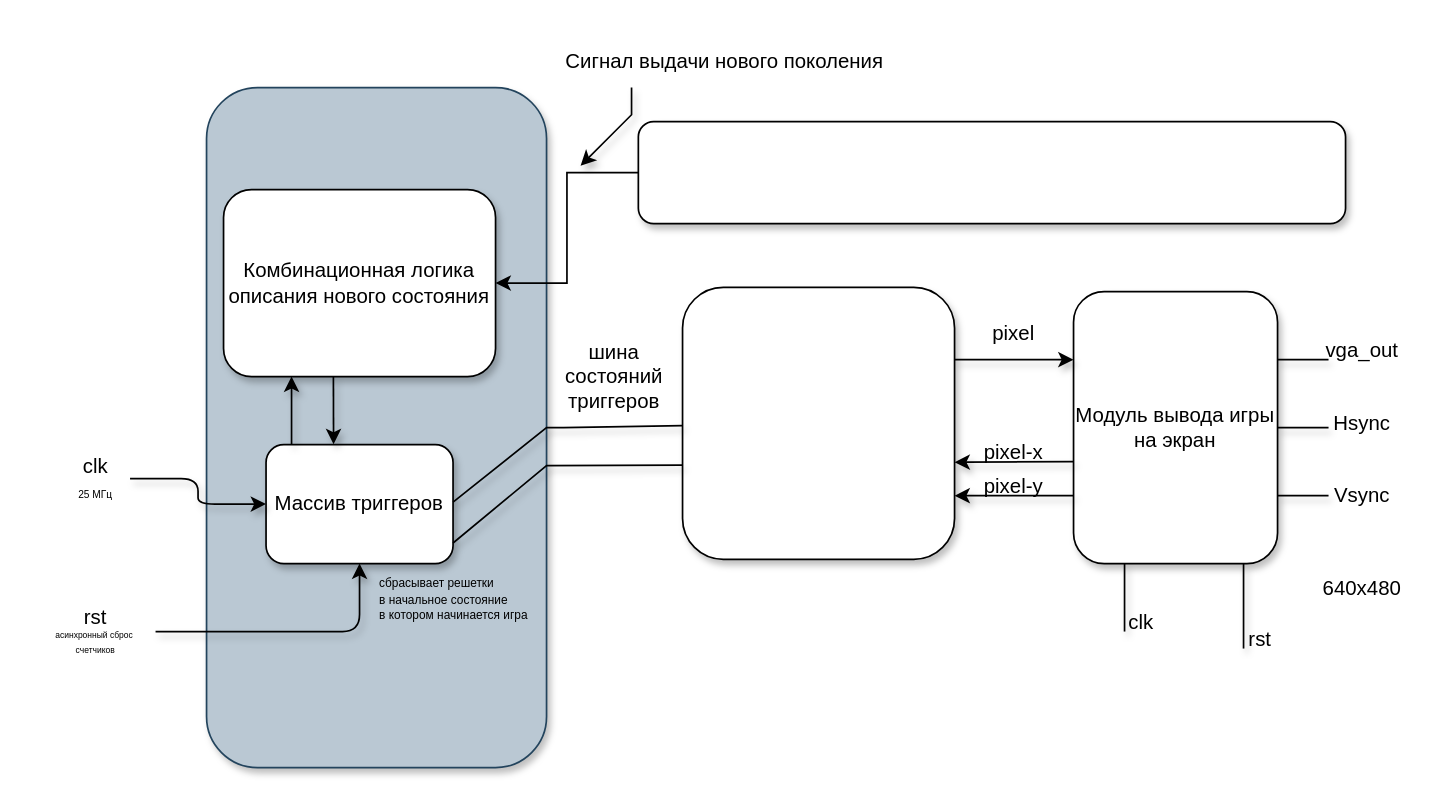
The diagram is 1452 pixels wide and 809 high, and some of its shapes have lost their labels. The centre of each missing label's shape, as x and y in pixels:
Делитель частоты: point 993,174
Комбинационная логика, растяжение картинки: point 819,425
